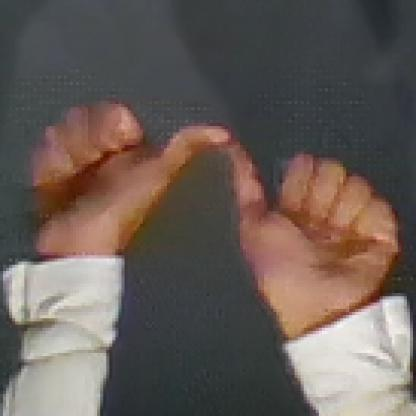A: (16, 86, 404, 293)
